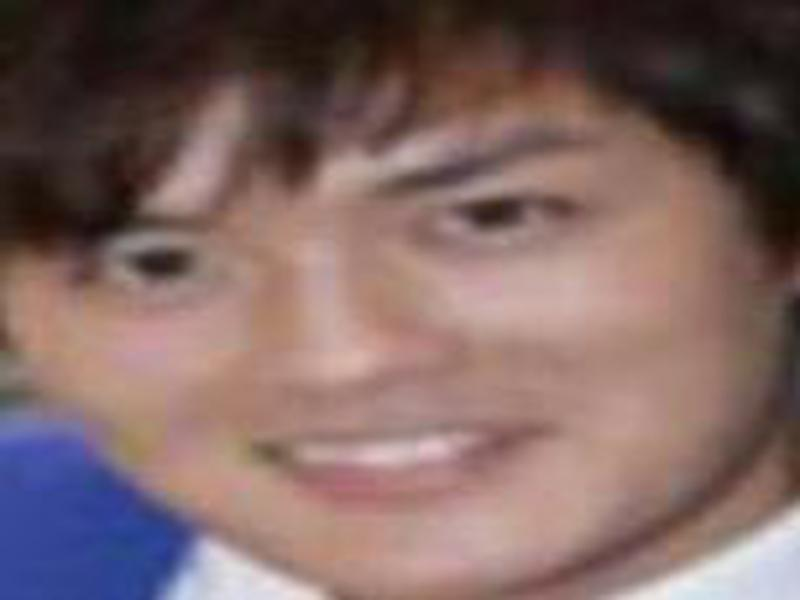without_mask: (25, 80, 748, 585)
